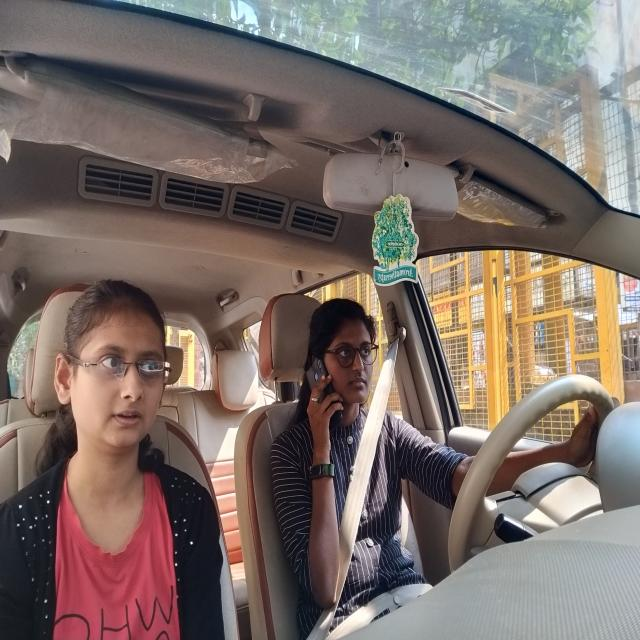mobile: (302, 356, 346, 428)
person: (51, 276, 178, 467), (311, 302, 380, 414)
